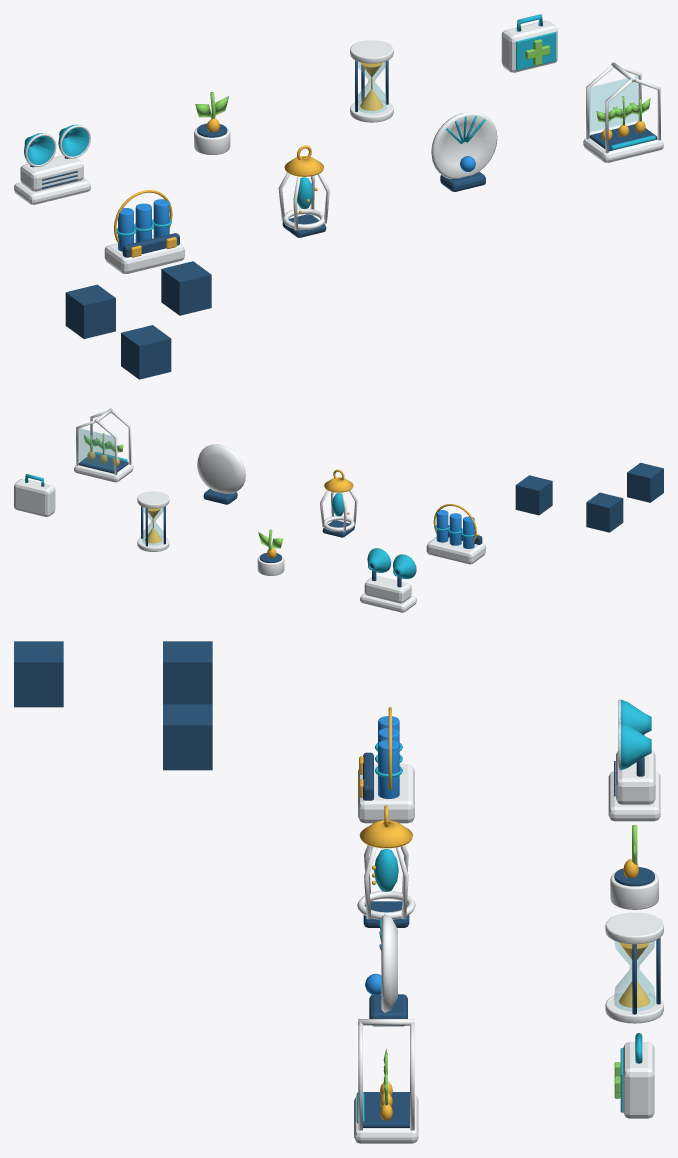
File: catalog-003.glb
The picture shows the model from 3 angles, top to bottom: view 1: azimuth 30°, elevation 25°; view 2: azimuth 150°, elevation 25°; view 3: azimuth 270°, elevation 25°; orthographic projection. The views are drawn at different scales.
Visible parts, largest first — view 1: echo_plate__ShellRibs_pearl_03, encore__Fixed_pearl_04, eden_greenhouse__Fixed_pearl_05, catalog_003__calibration_right, catalog_003__calibration_front, catalog_003__calibration_origin, current_nexus__EvolvedCore_blue_01, eden_greenhouse__Fixed_glass_02, event_overtime__Fixed_pearl_06, current_nexus__Fixed_pearl_06, event_repair__Fixed_pearl_02, dew_lantern__Fixed_pearl_04 (+10 smaller); view 2: echo_plate__ShellRibs_pearl_03, encore__Fixed_pearl_04, eden_greenhouse__Fixed_pearl_05, event_repair__Fixed_pearl_02, catalog_003__calibration_right, catalog_003__calibration_origin, catalog_003__calibration_front, eden_greenhouse__Fixed_glass_02, current_nexus__EvolvedCore_blue_01, current_nexus__Fixed_pearl_06, event_overtime__Fixed_pearl_06, dew_lantern__Fixed_pearl_04 (+9 smaller); view 3: catalog_003__calibration_right, catalog_003__calibration_front, catalog_003__calibration_origin, encore__Fixed_pearl_04, event_overtime__Fixed_pearl_06, eden_greenhouse__Fixed_pearl_05, event_repair__Fixed_pearl_02, current_nexus__Fixed_pearl_06, dew_lantern__Fixed_pearl_04, event_overtime__Fixed_glass_02, echo_plate__ShellRibs_pearl_03, current_nexus__EvolvedCore_blue_01 (+6 smaller).
Part boxes in pixels (bbox=[...]): echo_plate__ShellRibs_pearl_03: bbox=[431, 112, 497, 178]; encore__Fixed_pearl_04: bbox=[14, 155, 90, 204]; eden_greenhouse__Fixed_pearl_05: bbox=[583, 62, 663, 162]; catalog_003__calibration_right: bbox=[161, 261, 211, 315]; catalog_003__calibration_front: bbox=[121, 325, 171, 379]; catalog_003__calibration_origin: bbox=[65, 284, 115, 338]; current_nexus__EvolvedCore_blue_01: bbox=[118, 199, 169, 251]; eden_greenhouse__Fixed_glass_02: bbox=[590, 76, 638, 131]; event_overtime__Fixed_pearl_06: bbox=[350, 40, 393, 122]; current_nexus__Fixed_pearl_06: bbox=[104, 234, 184, 273]; event_repair__Fixed_pearl_02: bbox=[501, 20, 557, 72]; dew_lantern__Fixed_pearl_04: bbox=[278, 172, 329, 230]; echo_plate__ShellRibs_pearl_03: bbox=[197, 444, 245, 493]; encore__Fixed_pearl_04: bbox=[360, 575, 416, 612]; eden_greenhouse__Fixed_pearl_05: bbox=[74, 408, 133, 482]; event_repair__Fixed_pearl_02: bbox=[14, 478, 55, 516]; catalog_003__calibration_right: bbox=[515, 475, 552, 515]; catalog_003__calibration_origin: bbox=[586, 492, 623, 532]; catalog_003__calibration_front: bbox=[627, 462, 663, 502]; eden_greenhouse__Fixed_glass_02: bbox=[79, 428, 114, 469]; current_nexus__EvolvedCore_blue_01: bbox=[436, 510, 474, 548]; current_nexus__Fixed_pearl_06: bbox=[426, 537, 485, 564]; event_overtime__Fixed_pearl_06: bbox=[137, 491, 169, 551]; dew_lantern__Fixed_pearl_04: bbox=[320, 489, 357, 532]; catalog_003__calibration_right: bbox=[163, 704, 212, 770]; catalog_003__calibration_front: bbox=[14, 641, 63, 707]; catalog_003__calibration_origin: bbox=[163, 641, 212, 704]; encore__Fixed_pearl_04: bbox=[608, 750, 660, 821]; event_overtime__Fixed_pearl_06: bbox=[605, 912, 663, 1023]; eden_greenhouse__Fixed_pearl_05: bbox=[354, 1019, 418, 1143]; event_repair__Fixed_pearl_02: bbox=[623, 1042, 654, 1118]; current_nexus__Fixed_pearl_06: bbox=[358, 764, 414, 823]; dew_lantern__Fixed_pearl_04: bbox=[357, 845, 415, 919]; event_overtime__Fixed_glass_02: bbox=[614, 941, 655, 1010]; echo_plate__ShellRibs_pearl_03: bbox=[381, 914, 397, 1012]; current_nexus__EvolvedCore_blue_01: bbox=[378, 716, 399, 798].
Bounding box in the file's own units: 5.73 × 0.707 × 3.67.
